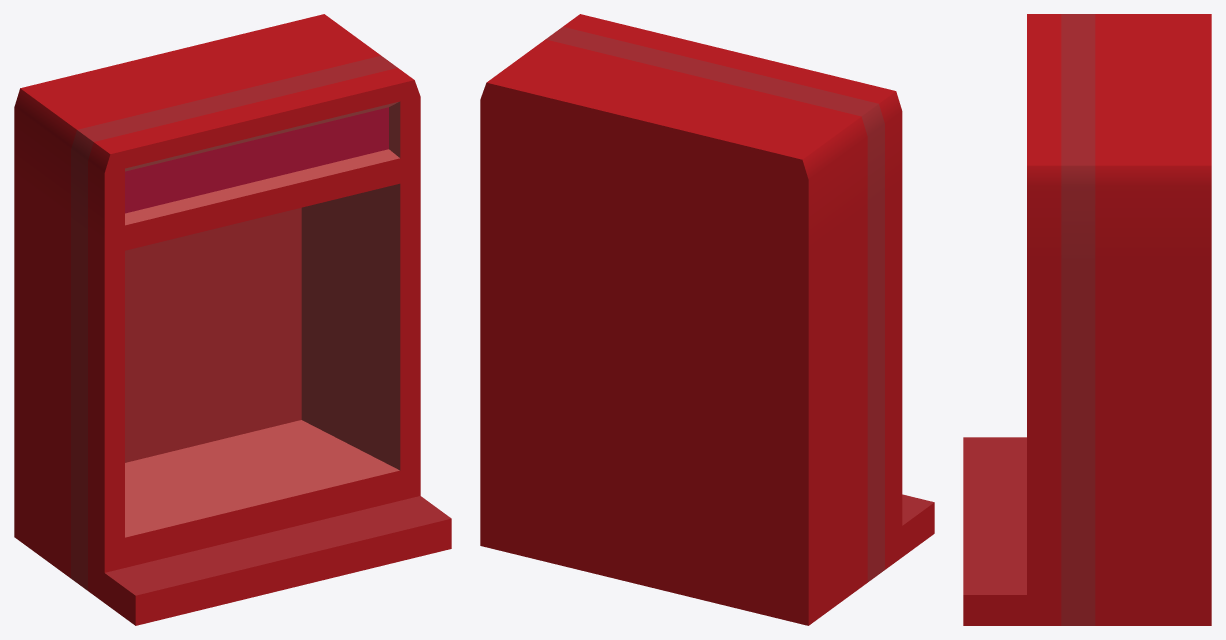
File: alter.fbx
3 views of the same model, side by side, from view 1: azimuth 30°, elevation 25°; view 2: azimuth 150°, elevation 25°; view 3: azimuth 270°, elevation 25° (orthographic). The views are drawn at different scales.
Parts seen in each view (by area): view 1: alter; view 2: alter; view 3: alter.
Part boxes in pixels (x1=…): alter: x1=14, y1=14, x2=451, y2=625; alter: x1=480, y1=14, x2=934, y2=625; alter: x1=963, y1=14, x2=1211, y2=625.
Size of the model in its own units: 3.64 by 4.93 by 2.42.
